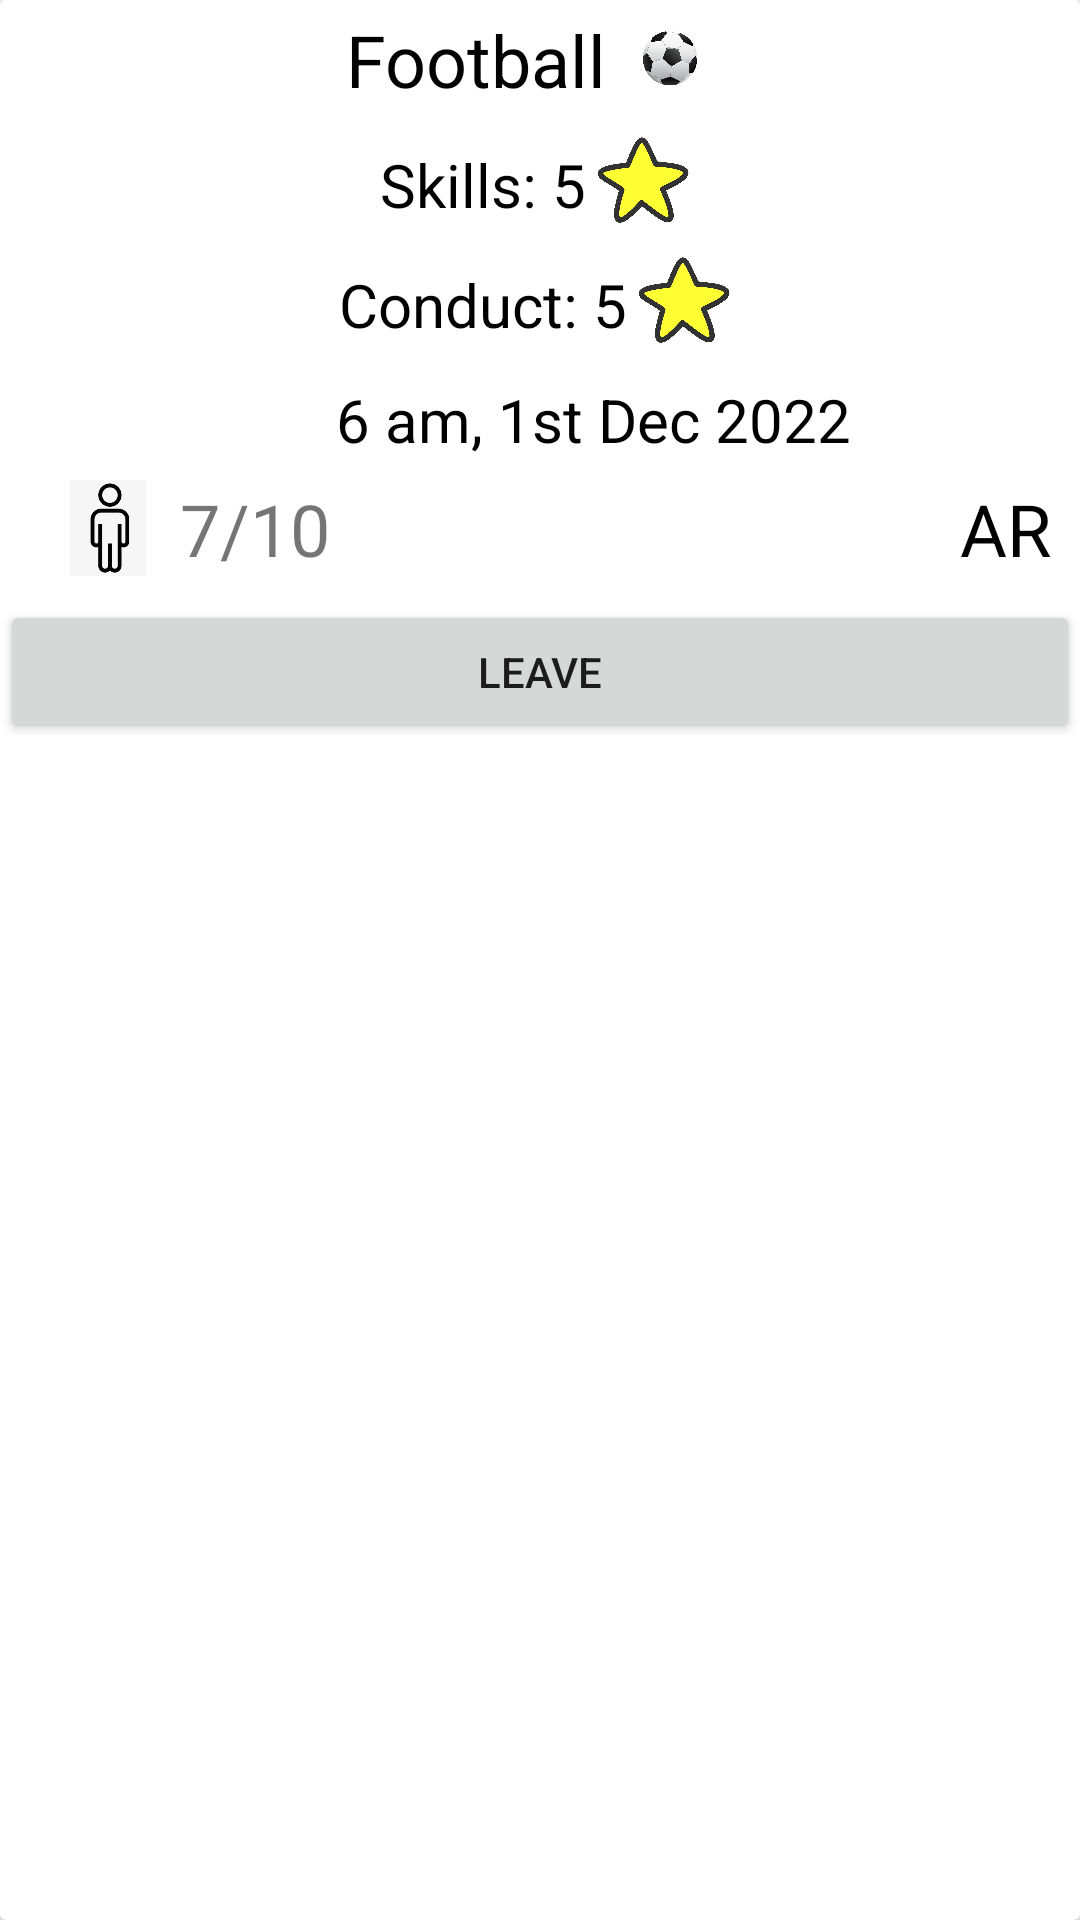

Icons on this 1080w x 1920h Android screen, each with the point to tap as point (x, y):
Rating star: point (643, 180), point (684, 300)
Stick figure: point (108, 528)
